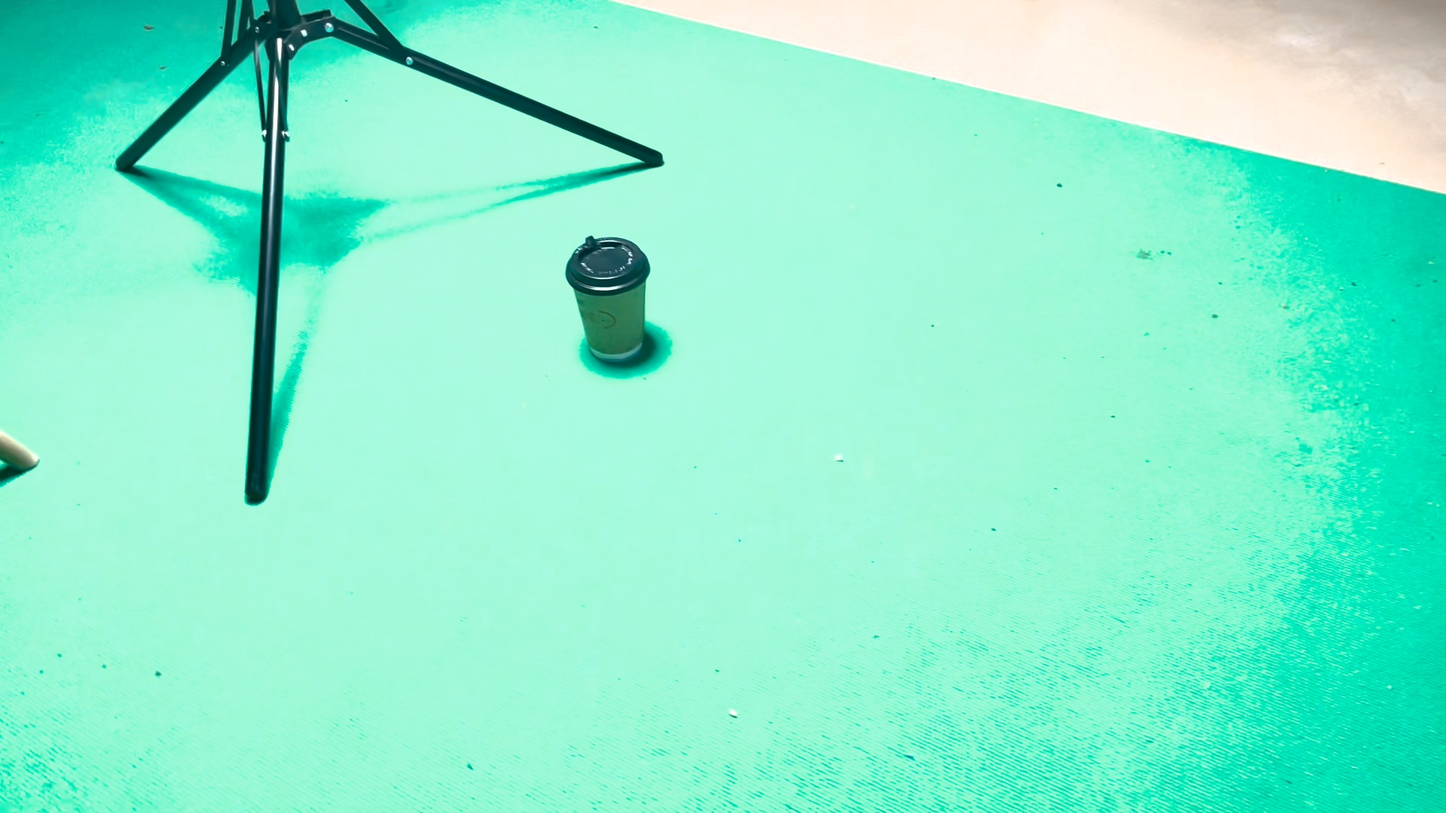cup: (686, 431, 799, 596)
